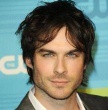male: (15, 3, 97, 101)
